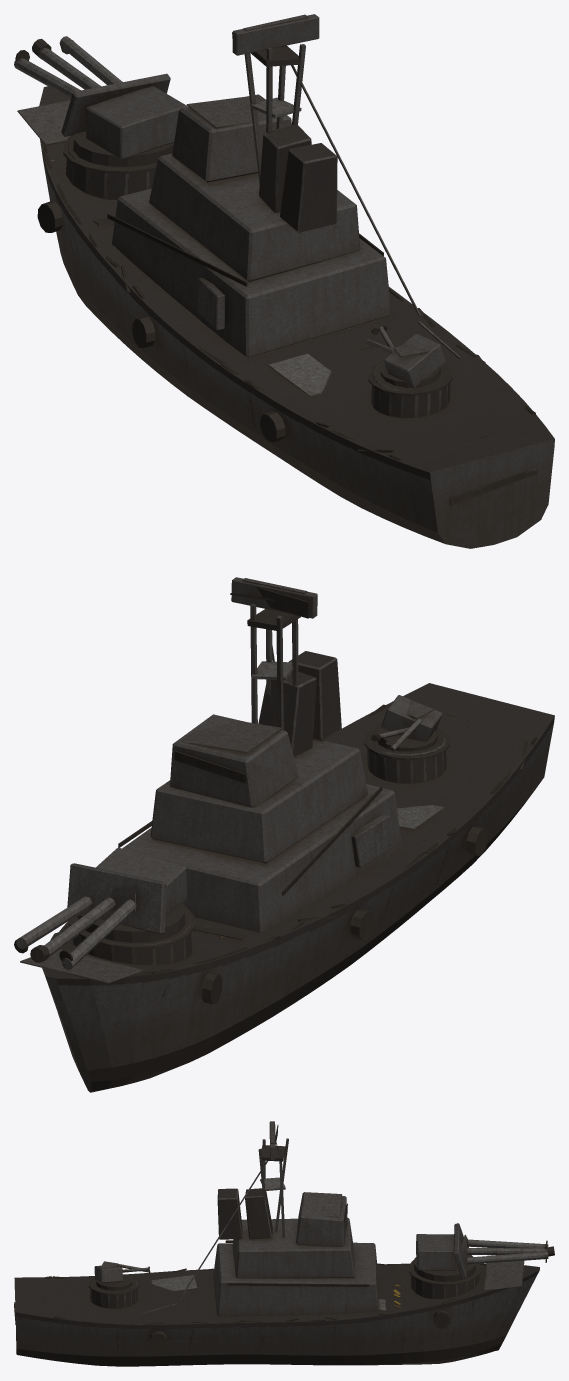
File: chs_kraken_wreck.fbx
3 views of the same model, one above another, from view 1: azimuth 30°, elevation 25°; view 2: azimuth 150°, elevation 25°; view 3: azimuth 270°, elevation 25° (orthographic). The views are drawn at different scales.
Visible parts, largest first — view 1: base_bar, turret1_bar, turret2_bar, radar_bar; view 2: base_bar, turret1_bar, turret2_bar, radar_bar; view 3: base_bar, turret1_bar, turret2_bar.
Part boxes in pixels (x1,y1,x2,y2): base_bar: [17, 44, 554, 548]; turret1_bar: [14, 36, 187, 166]; turret2_bar: [365, 325, 445, 388]; radar_bar: [232, 14, 319, 55]; base_bar: [20, 604, 554, 1092]; turret1_bar: [14, 847, 186, 969]; turret2_bar: [371, 695, 442, 751]; radar_bar: [230, 577, 317, 618]; base_bar: [14, 1138, 539, 1366]; turret1_bar: [414, 1223, 554, 1281]; turret2_bar: [94, 1261, 150, 1290].
Size of the model in its own units: 843 by 1416 by 3015.
2 materials, 2 textured.
